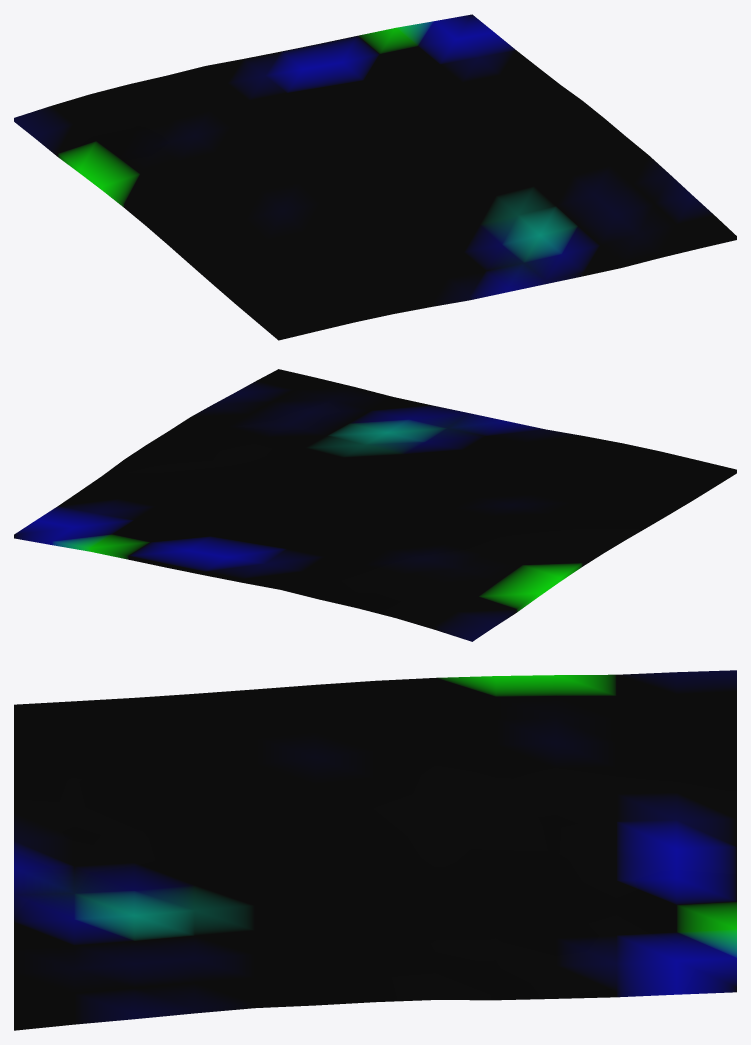
Rendered from coast_17_3.glb.
3 renders of one model, top to bottom at view 1: azimuth 30°, elevation 25°; view 2: azimuth 150°, elevation 25°; view 3: azimuth 270°, elevation 25°, orthographic. The views are drawn at different scales.
Visible parts, largest first — view 1: terrain; view 2: terrain; view 3: terrain.
Part boxes in pixels (x1=…): terrain: x1=14, y1=14, x2=736, y2=340; terrain: x1=14, y1=369, x2=736, y2=641; terrain: x1=14, y1=670, x2=736, y2=1030.
Bounding box in the file's own units: 192 × 18.32 × 192.
